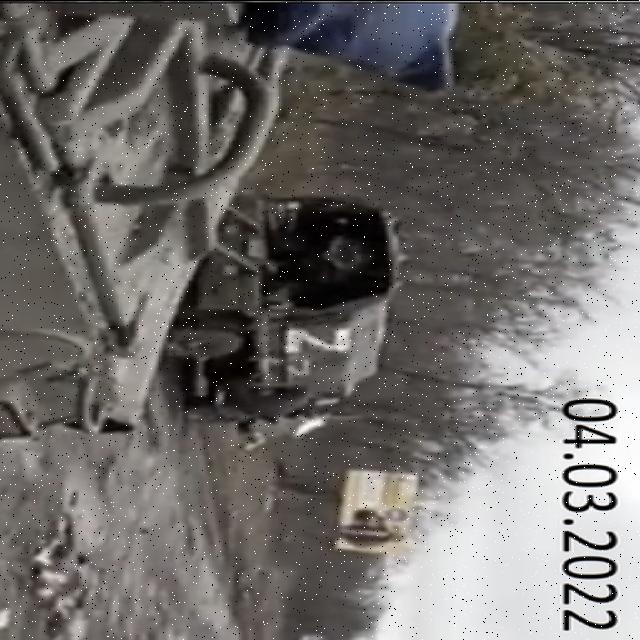TRUCK: (162, 190, 404, 440)
